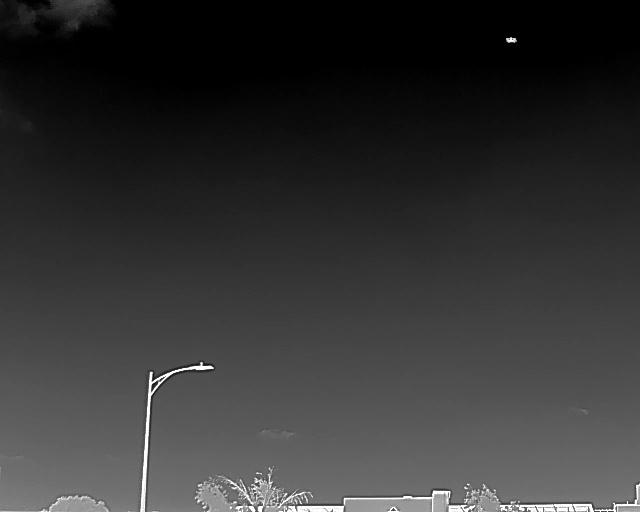fpv-drone: (506, 37, 517, 44)
